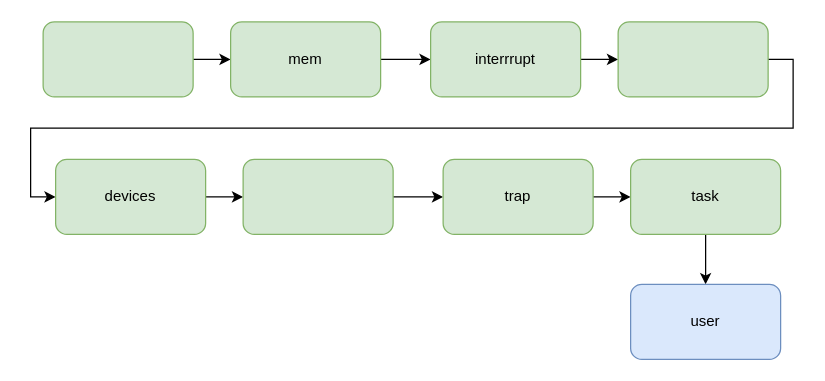
This 825x381 diagram has some shape labels left out. The shapes that lost their labels are listed below. From the top down, each one's centre as x and y in pixels, then its label:
point (117, 59): platform
point (692, 59): drivers
point (317, 196): vfs
